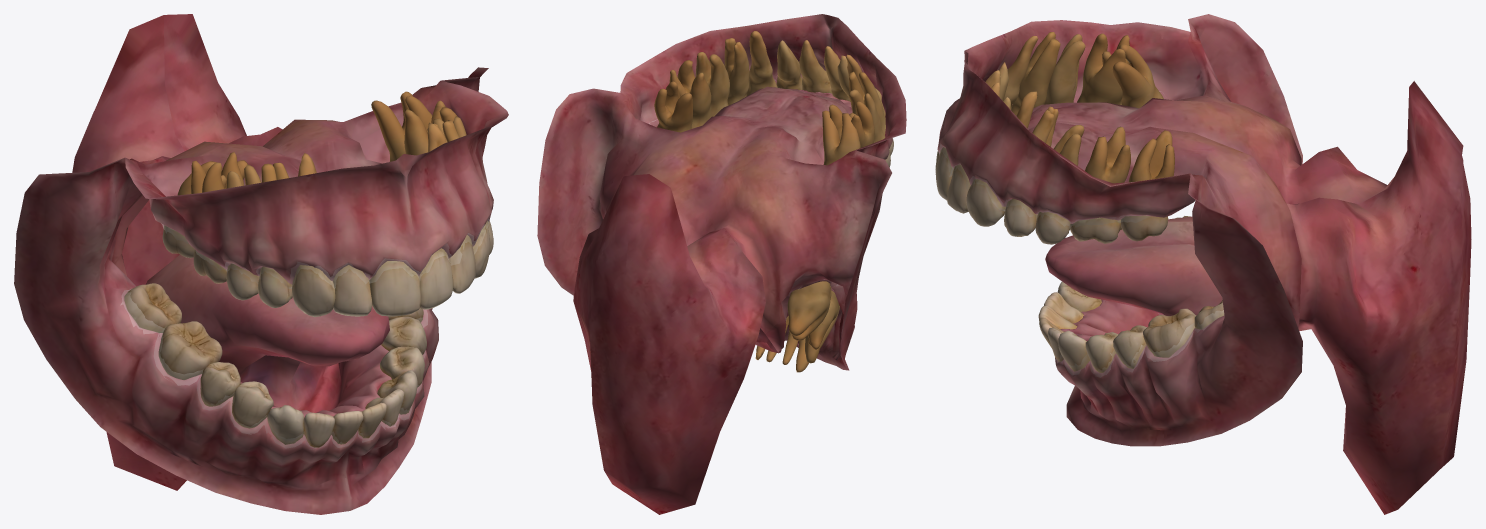
The model's file is human_mouth_detailed.glb.
3 renders of one model, left to right at view 1: azimuth 30°, elevation 25°; view 2: azimuth 150°, elevation 25°; view 3: azimuth 270°, elevation 25°, orthographic. The views are drawn at different scales.
Parts seen in each view (by area): view 1: mouth_0, teeth_1, wet_2; view 2: mouth_0, teeth_1; view 3: mouth_0, teeth_1, wet_2.
Part boxes in pixels (left/top/right/bottom): mouth_0: left=14, top=14, right=508, bottom=514; teeth_1: left=124, top=91, right=493, bottom=447; wet_2: left=121, top=217, right=489, bottom=448; mouth_0: left=537, top=14, right=906, bottom=514; teeth_1: left=654, top=31, right=893, bottom=372; mouth_0: left=937, top=14, right=1471, bottom=514; teeth_1: left=935, top=32, right=1224, bottom=372; wet_2: left=938, top=91, right=1223, bottom=377.
Bounding box in the file's own units: 0.2433 × 0.2663 × 0.2801.
3 materials, 2 textured.
